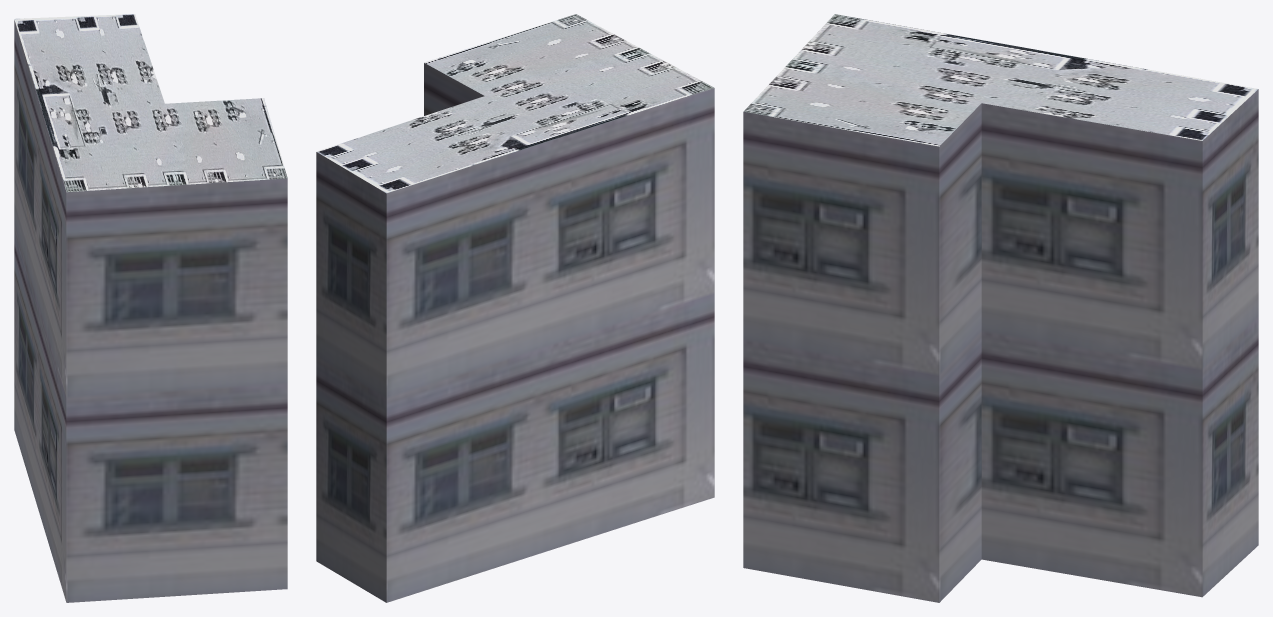
File: ResTex__576.fbx
3 renders of one model, left to right at view 1: azimuth 30°, elevation 25°; view 2: azimuth 150°, elevation 25°; view 3: azimuth 270°, elevation 25°, orthographic. The views are drawn at different scales.
Parts seen in each view (by area): view 1: CityEngineMaterial_1_m, CityEngineMaterial_8_m; view 2: CityEngineMaterial_1_m, CityEngineMaterial_8_m; view 3: CityEngineMaterial_1_m, CityEngineMaterial_8_m.
Part boxes in pixels (<box>): CityEngineMaterial_1_m: <box>14,20,287,602</box>; CityEngineMaterial_8_m: <box>14,14,287,192</box>; CityEngineMaterial_1_m: <box>316,63,714,602</box>; CityEngineMaterial_8_m: <box>316,14,714,193</box>; CityEngineMaterial_1_m: <box>743,89,1258,602</box>; CityEngineMaterial_8_m: <box>744,14,1257,146</box>.
Bounding box in the file's own units: 3.74 × 6 × 6.14.
Materials: 2 (2 with a texture image).
